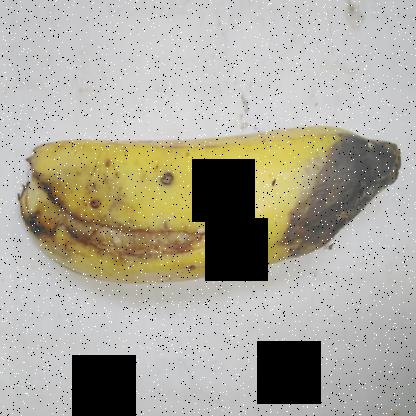rotten: (6, 148, 238, 270), (260, 105, 416, 283)
